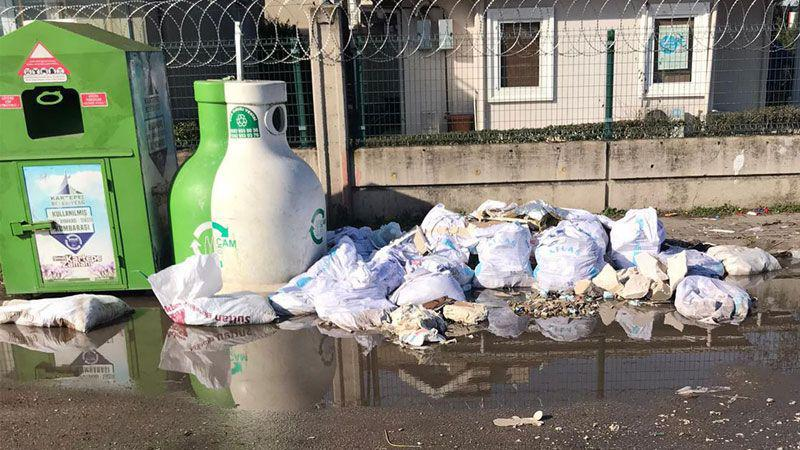Garbage: (168, 268, 274, 331), (0, 291, 122, 339), (494, 412, 552, 448), (670, 382, 719, 409)
